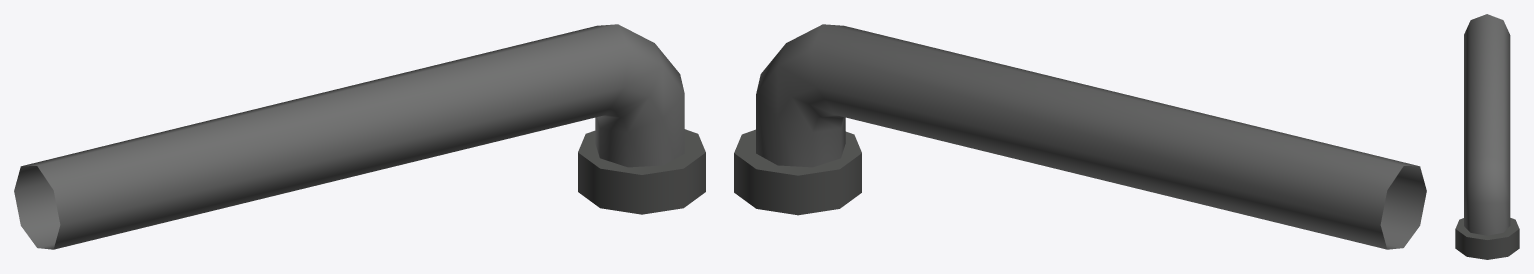
Rendered from Pipe_1_B_2_2.glb.
The picture shows the model from 3 angles, left to right: view 1: azimuth 30°, elevation 25°; view 2: azimuth 150°, elevation 25°; view 3: azimuth 270°, elevation 25°; orthographic projection. The views are drawn at different scales.
Visible parts, largest first — view 1: Pipe_1_B_2_2; view 2: Pipe_1_B_2_2; view 3: Pipe_1_B_2_2.
Part boxes in pixels (bbox=[...]): Pipe_1_B_2_2: bbox=[14, 24, 705, 249]; Pipe_1_B_2_2: bbox=[734, 24, 1426, 249]; Pipe_1_B_2_2: bbox=[1455, 14, 1519, 259].
Size of the model in its own units: 1.8 by 0.4392 by 0.3012.
Materials: 1 (1 with a texture image).
